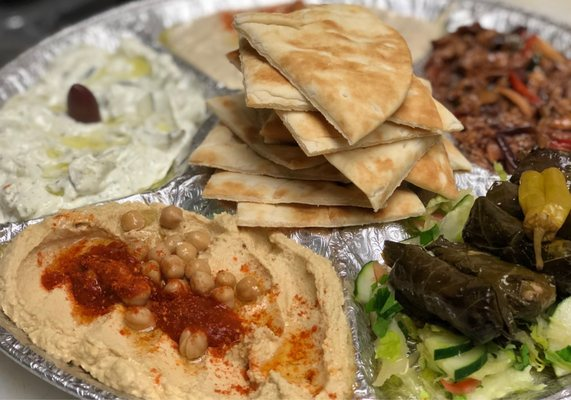soup: (1, 201, 359, 400), (233, 3, 416, 152)
